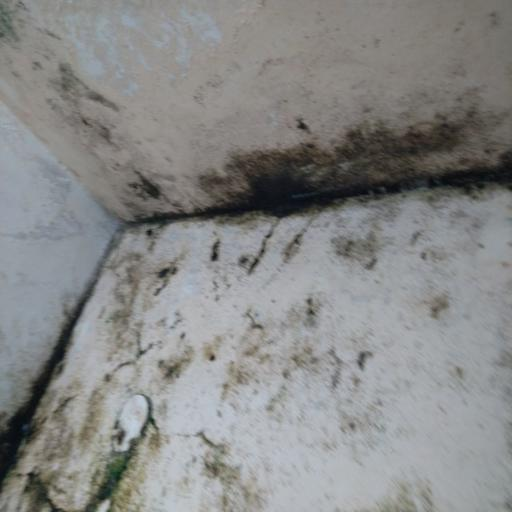algae: (18, 76, 512, 511)
